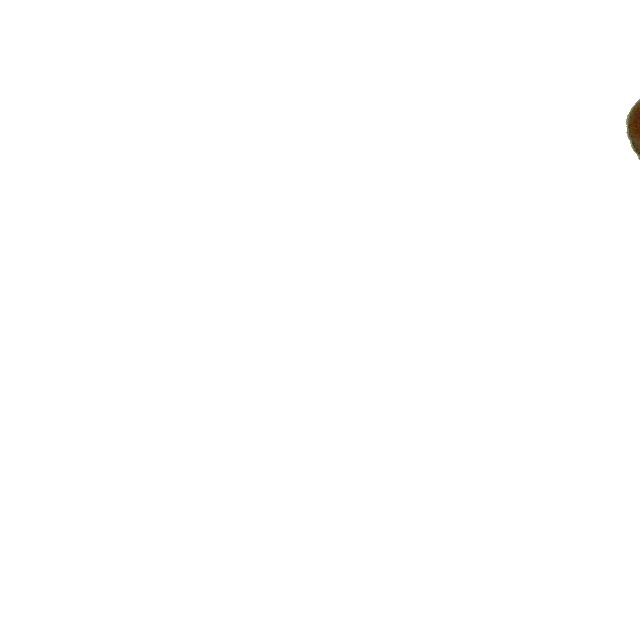mais: (625, 88, 640, 173)
